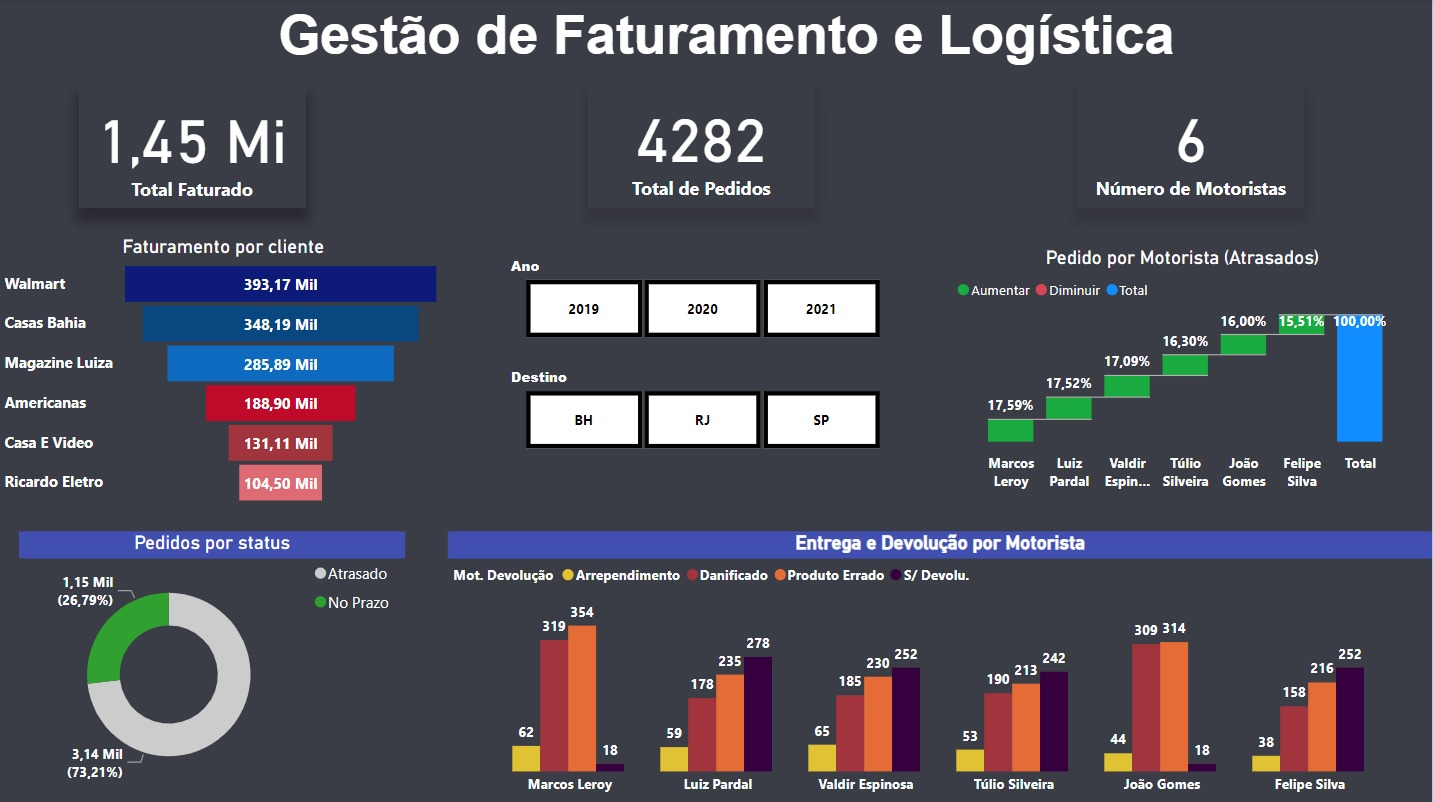

The dashboard page shown, as its layout file describes it:
{"tool":"powerbi","page":{"name":"Página 1","canvas":[1280,720],"ordinal":0},"visuals":[{"type":"card","fields":{"Values":["Base de Dados - logistica.R$ Faturados"]},"box":[71.4,77,202,109.4],"z":0},{"type":"card","fields":{"Values":["Base de Dados - logistica.Nº Pedido"]},"box":[525.8,74.8,203.2,111.6],"z":1000},{"type":"card","fields":{"Values":["Base de Dados - logistica.Motorista"]},"box":[963.3,74.8,202,111.6],"z":2000},{"type":"funnel","title":"Faturamento por cliente","fields":{"Category":["Base de Dados - logistica.Cliente"],"Y":["Base de Dados - logistica.R$ Faturados"]},"box":[0,211,436.5,245.6],"z":3000},{"type":"donutChart","title":"Pedidos por status ","fields":{"Y":["Base de Dados - logistica.Nº Pedido"],"Category":["Base de Dados - logistica.Status"]},"box":[17.9,475.5,344.9,236.7],"z":4000},{"type":"waterfallChart","title":"Pedido por Motorista (Atrasados)","fields":{"Category":["Base de Dados - logistica.Motorista"],"Y":["Base de Dados - logistica.Nº Pedido"]},"box":[850.1,211,412.6,235.9],"z":5000},{"type":"clusteredColumnChart","title":"Entrega e Devolução por Motorista","fields":{"Category":["Base de Dados - logistica.Motorista"],"Y":["Base de Dados - logistica.Nº Pedido"],"Series":["Base de Dados - logistica.Mot. Devolução"]},"box":[400.7,475.5,879.6,244.5],"z":6000},{"type":"slicer","fields":{"Values":["Base de Dados - logistica.Destino"]},"box":[444.3,323.7,366.1,84.8],"z":7000},{"type":"slicer","fields":{"Values":["Base de Dados - logistica.Data Emissão Pedido.Variation.Hierarquia de datas.Ano"]},"box":[444.3,224.4,366.1,84.8],"z":8000},{"type":"textbox","box":[17.4,0,1263,66.2],"z":9000}]}

Visuals, with their boxes in screenshot pixels (x1, y1, x2, y2), scaled from the page's 1280x720 canvas onto the 1433x802 screenshot:
card - Base de Dados - logistica.R$ Faturados: {"x1": 80, "y1": 86, "x2": 306, "y2": 208}
card - Base de Dados - logistica.Nº Pedido: {"x1": 589, "y1": 83, "x2": 816, "y2": 208}
card - Base de Dados - logistica.Motorista: {"x1": 1078, "y1": 83, "x2": 1305, "y2": 208}
"Faturamento por cliente" funnel: {"x1": 0, "y1": 235, "x2": 489, "y2": 509}
"Pedidos por status " donutChart: {"x1": 20, "y1": 530, "x2": 406, "y2": 793}
"Pedido por Motorista (Atrasados)" waterfallChart: {"x1": 952, "y1": 235, "x2": 1414, "y2": 498}
"Entrega e Devolução por Motorista" clusteredColumnChart: {"x1": 449, "y1": 530, "x2": 1432, "y2": 801}
slicer - Base de Dados - logistica.Destino: {"x1": 497, "y1": 361, "x2": 907, "y2": 455}
slicer - Base de Dados - logistica.Data Emissão Pedido.Variation.Hierarquia de datas.Ano: {"x1": 497, "y1": 250, "x2": 907, "y2": 344}
textbox: {"x1": 19, "y1": 0, "x2": 1432, "y2": 74}
